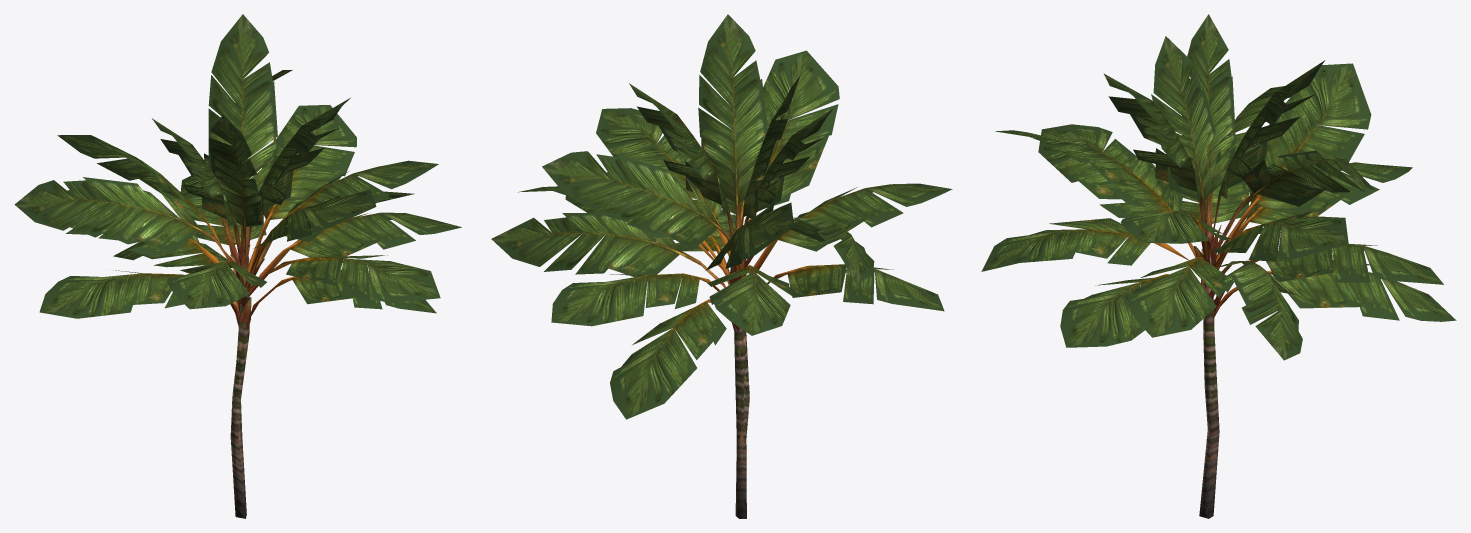
The model's file is palm4.fbx.
The picture shows the model from 3 angles, left to right: view 1: azimuth 30°, elevation 25°; view 2: azimuth 150°, elevation 25°; view 3: azimuth 270°, elevation 25°; orthographic projection. The views are drawn at different scales.
Visible parts, largest first — view 1: polySurface35; view 2: polySurface35; view 3: polySurface35.
Part boxes in pixels (x1,y1,x2,y2): polySurface35: [14, 14, 461, 518]; polySurface35: [491, 14, 952, 518]; polySurface35: [981, 14, 1456, 518].
Bounding box in the file's own units: 28.31 × 29.7 × 26.34.
1 material, 1 textured.
